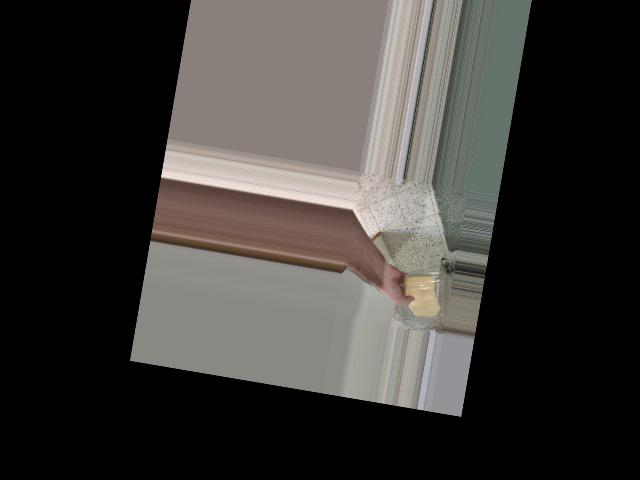cheese: (397, 266, 449, 322)
